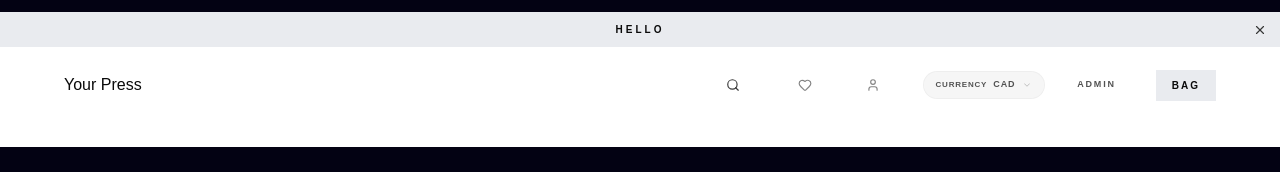
Test: announcement close button › closes the bar, remembers it, and shows it again for a new message
This screenshot has width=1280, height=172.
Click the button with class "fm-announce-close": [1260, 30] box [1244,14,1276,46]
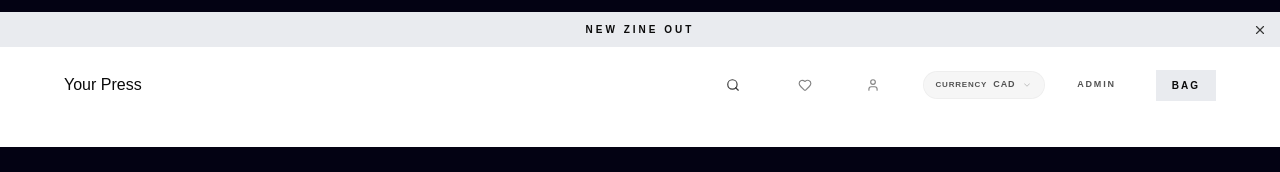
Expected: the element showing "New zine out" is shown, [0,12,1279,47]
